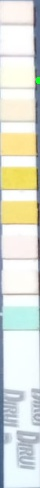color 1: (1, 2, 32, 22)
color 10: (2, 308, 38, 327)
color 2: (1, 33, 32, 53)
color 3: (1, 67, 33, 86)
color 4: (1, 99, 33, 120)
color 5: (1, 134, 35, 155)
color 6: (2, 169, 35, 187)
color 7: (2, 203, 36, 222)
color 8: (1, 237, 36, 257)
color 9: (2, 273, 37, 291)
